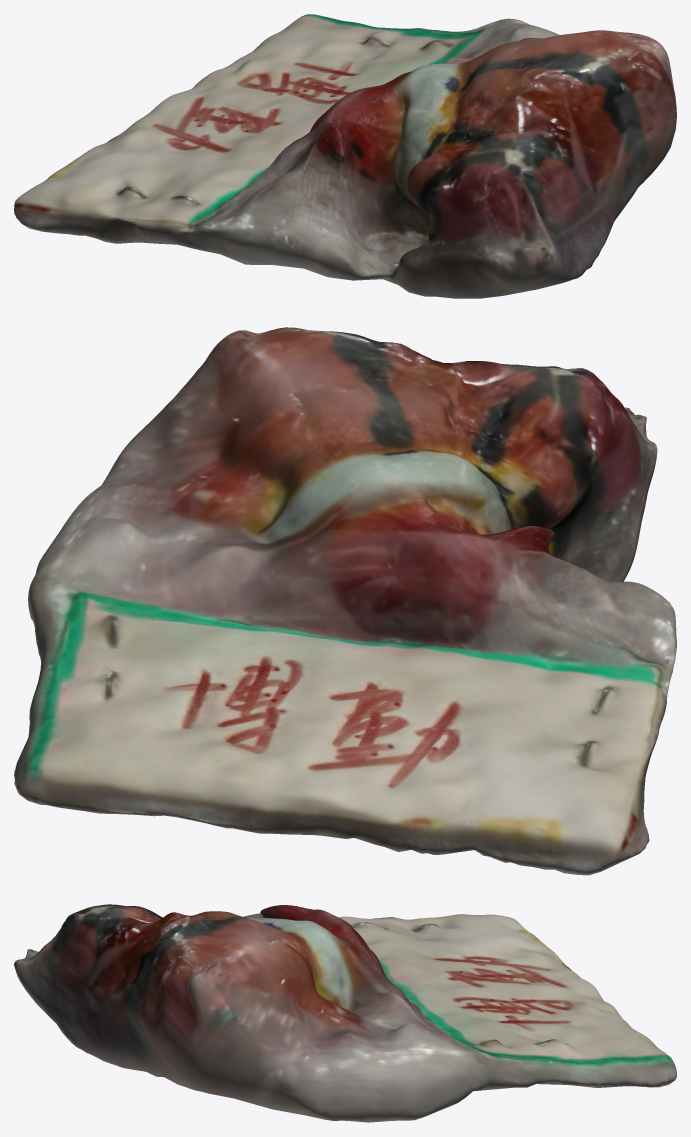
The picture shows the model from 3 angles, top to bottom: view 1: azimuth 30°, elevation 25°; view 2: azimuth 150°, elevation 25°; view 3: azimuth 270°, elevation 25°; orthographic projection. The views are drawn at different scales.
Size of the model in its own units: 0.5795 by 0.2117 by 0.6877.
Materials: 1 (1 with a texture image).
